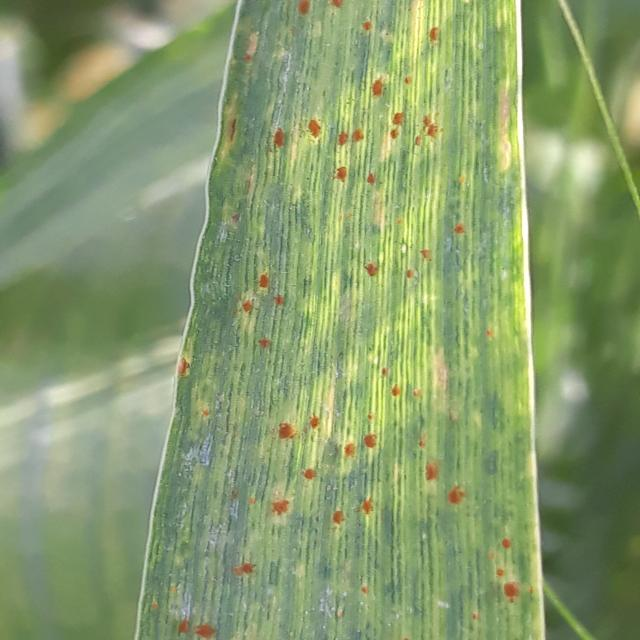orang_rust: (139, 0, 563, 640)
